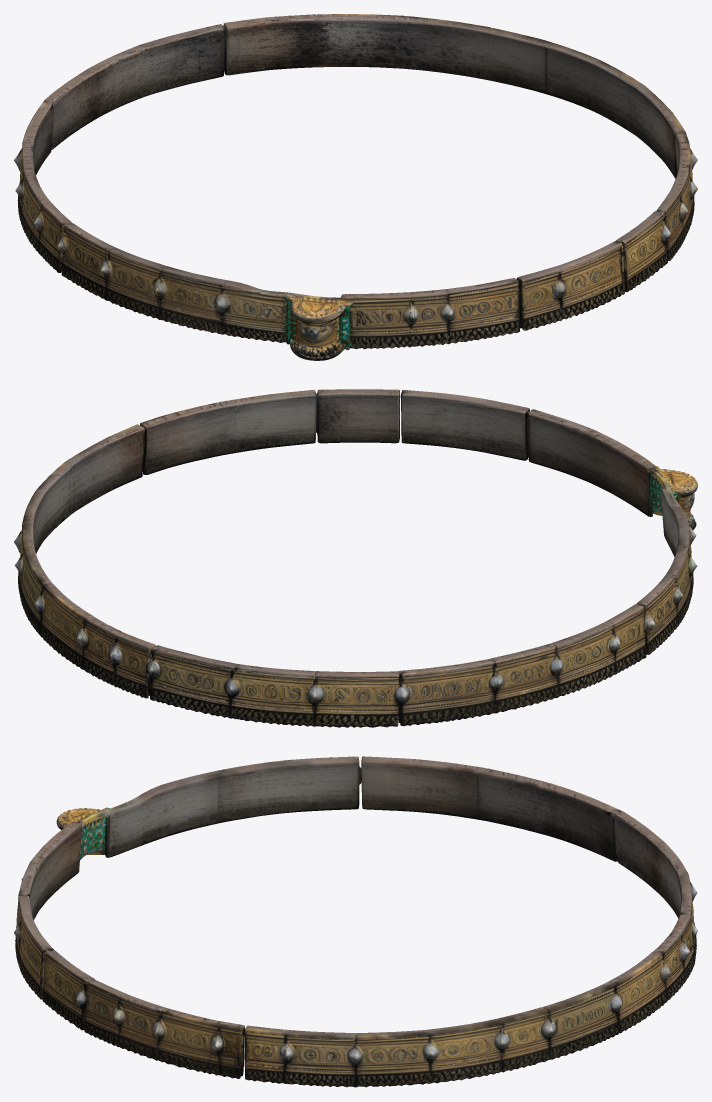
Rendered from 028-serebryanyy-poyas-s-azhurnoy-pryazhkoy.glb.
The picture shows the model from 3 angles, top to bottom: view 1: azimuth 30°, elevation 25°; view 2: azimuth 150°, elevation 25°; view 3: azimuth 270°, elevation 25°; orthographic projection.
Parts seen in each view (by area): view 1: node_0; view 2: node_0; view 3: node_0.
Boxes of the visible parts, bbox=[...] form: node_0: bbox=[14, 14, 697, 360]; node_0: bbox=[14, 389, 697, 727]; node_0: bbox=[14, 756, 697, 1087].
Size of the model in its own units: 1.12 by 0.0959 by 1.12.
Materials: 1 (1 with a texture image).
